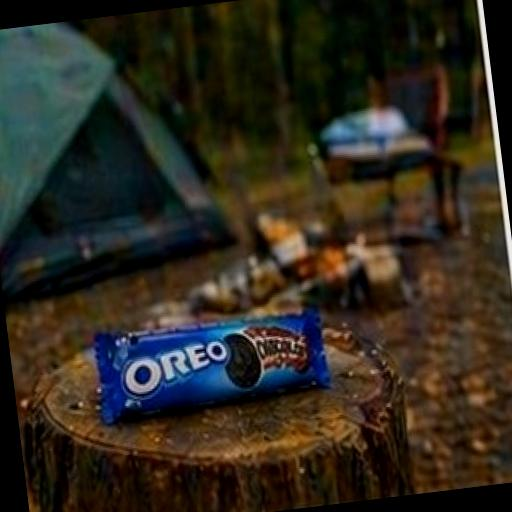oreo: (72, 250, 399, 470)
